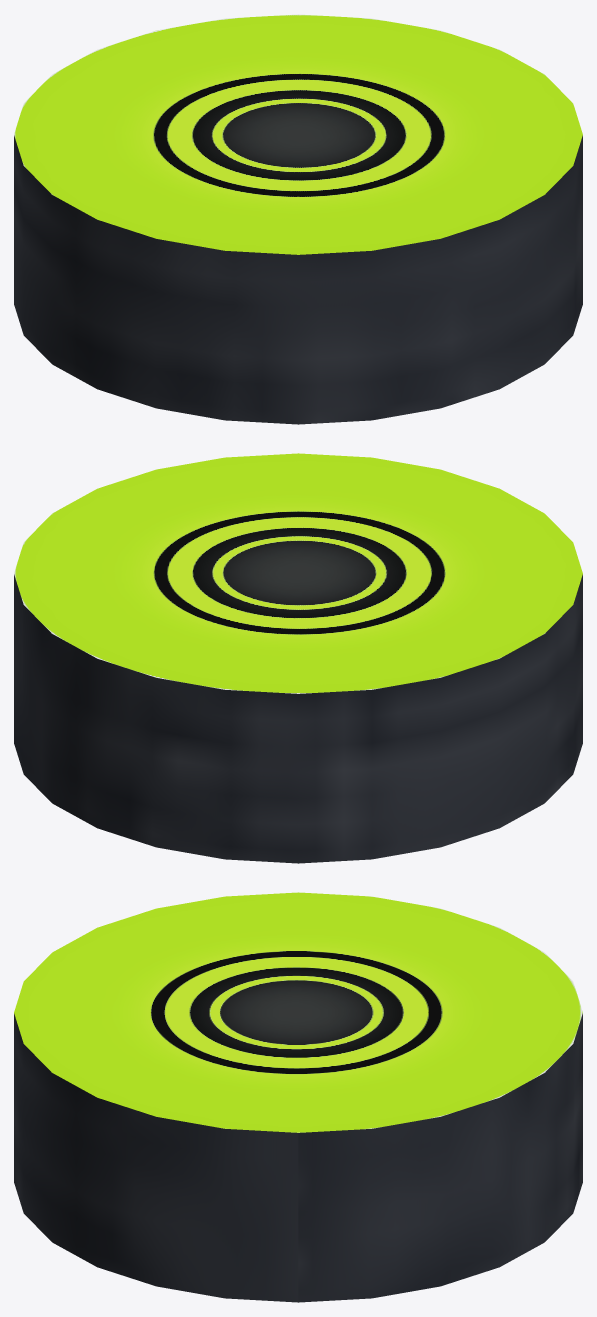
File: atom2.dae
The picture shows the model from 3 angles, top to bottom: view 1: azimuth 30°, elevation 25°; view 2: azimuth 150°, elevation 25°; view 3: azimuth 270°, elevation 25°; orthographic projection.
Parts seen in each view (by area): view 1: SketchUp (×2); view 2: SketchUp (×2); view 3: SketchUp (×2).
Boxes of the visible parts, x1,y1,x2,y2 form: SketchUp (×2): [14, 14, 582, 424]; SketchUp (×2): [14, 453, 582, 863]; SketchUp (×2): [14, 892, 582, 1302].
Bounding box in the file's own units: 2.99 × 2.99 × 0.9843.
2 materials, 2 textured.
